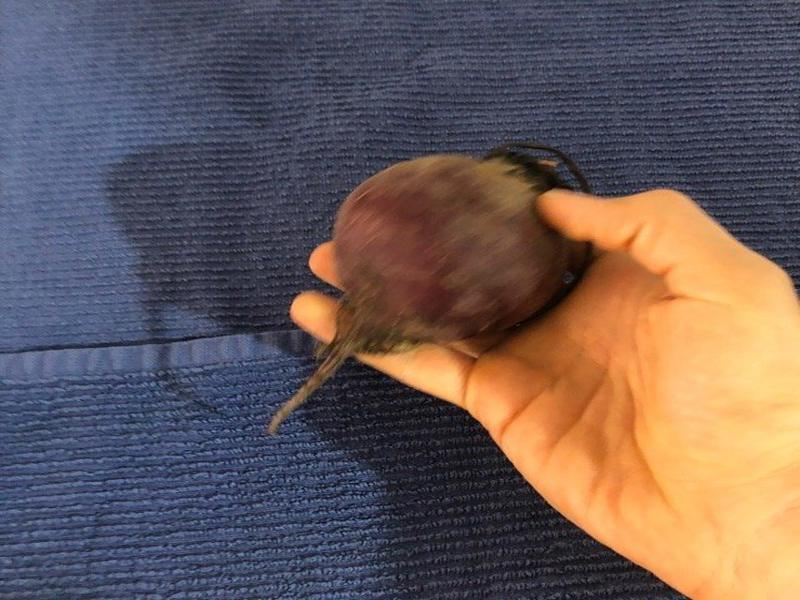Beet: (265, 142, 590, 436)
